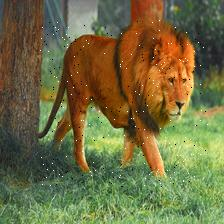Lion: (35, 20, 208, 187)
